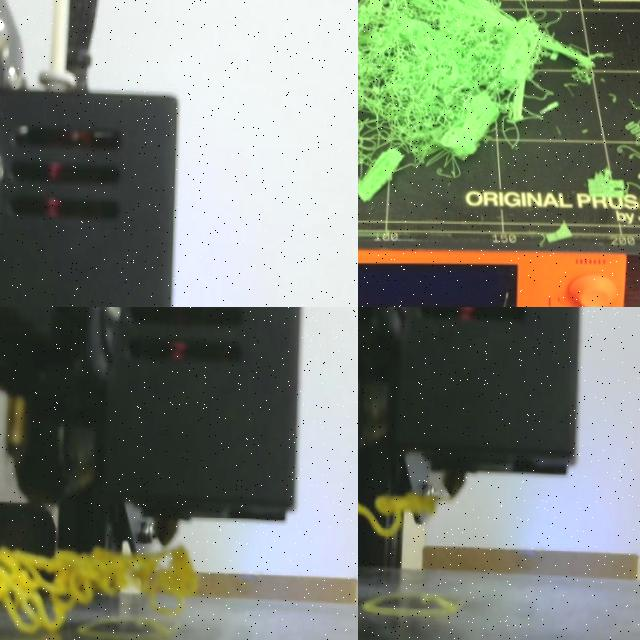spaghetti: (358, 0, 615, 172), (0, 546, 197, 631), (358, 492, 436, 538), (623, 110, 640, 151)
